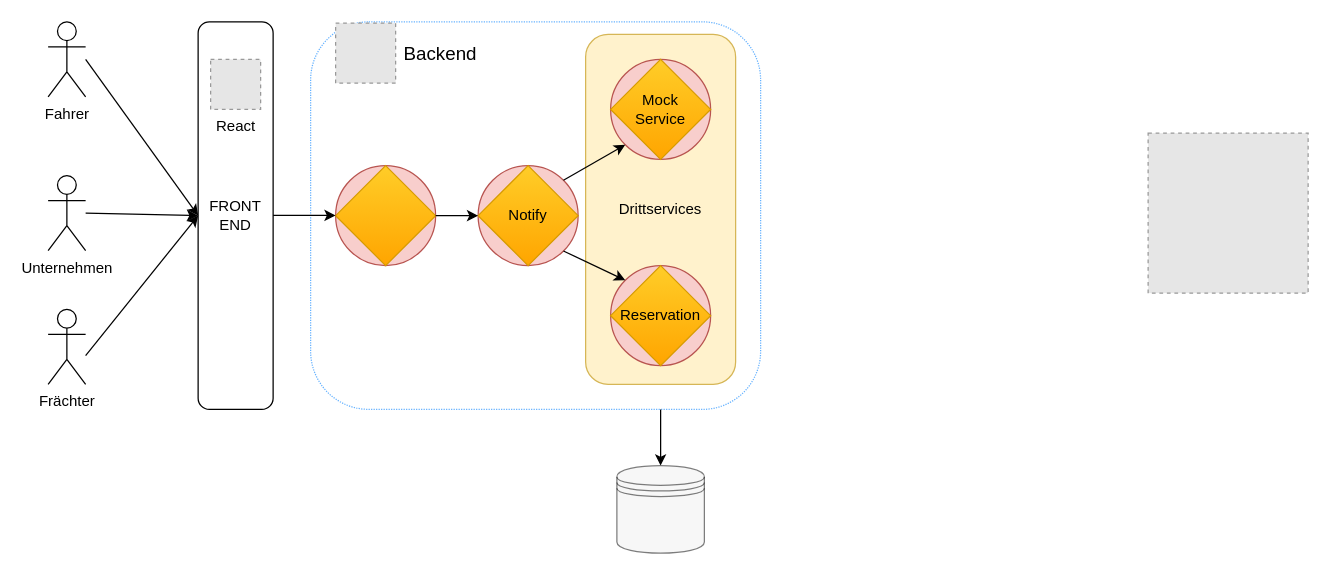
Image size: 1330x575. Some labels were removed from this diagram. Grey dashed boxes stand in for pictures. Each missing label, with the centre of its shape:
"DB" goes at (x=660, y=508).
"Fastlane" goes at (x=385, y=215).
